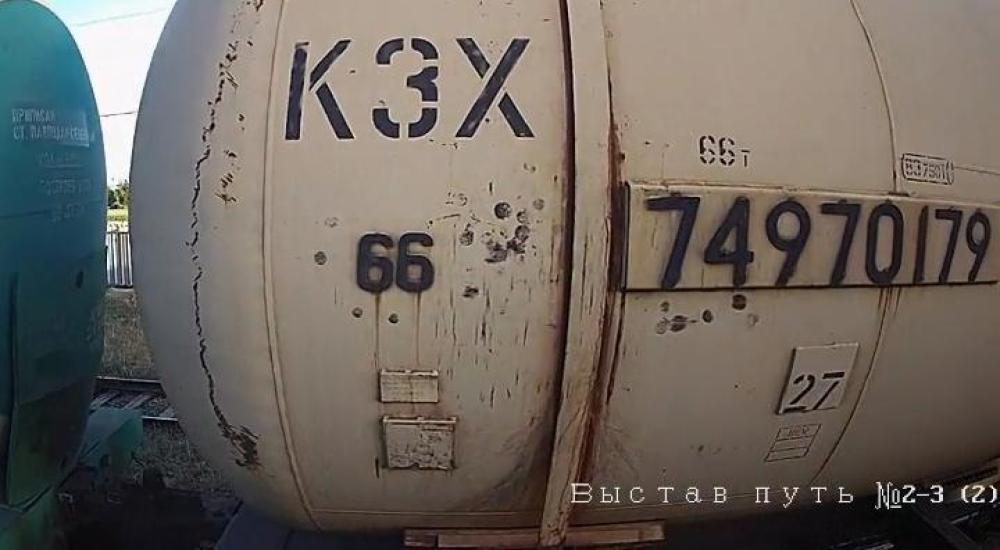Wagon-number: (634, 183, 1000, 289)
